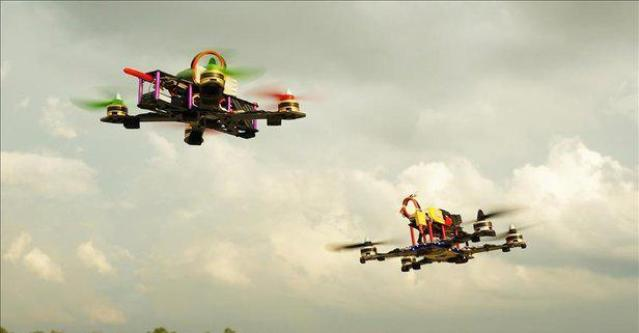drone: (60, 46, 332, 163), (0, 331, 639, 333)
